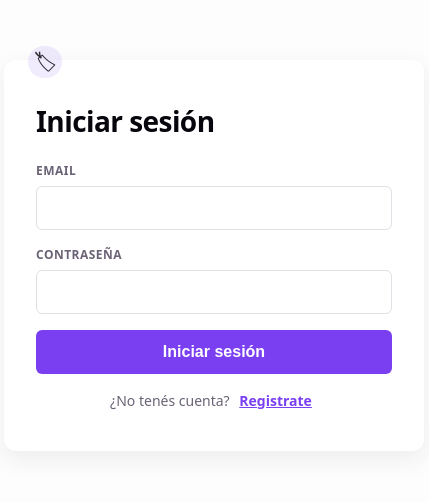
LoginPage › si login() falla, la página muestra el mensaje de error traducido
This screenshot has width=429, height=502.
Type "hernan@example.com" into the field labelled "Email" at (214, 208), box 36,186 -> 392,230
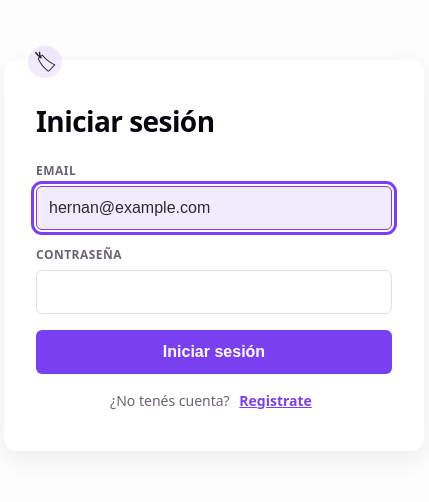
Type "clave123" into the password field labelled "Contraseña" at (214, 292), box 36,270 -> 392,314
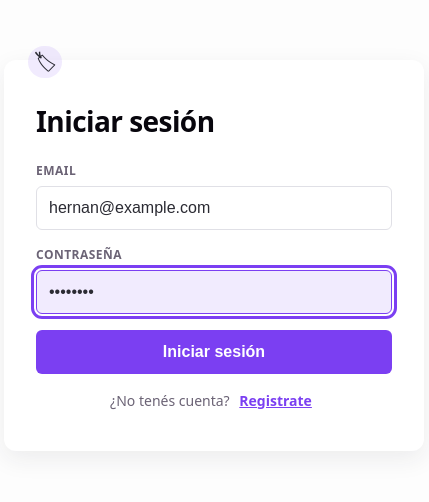
Click the button "Iniciar sesión" at (214, 352), box 36,330 -> 392,374
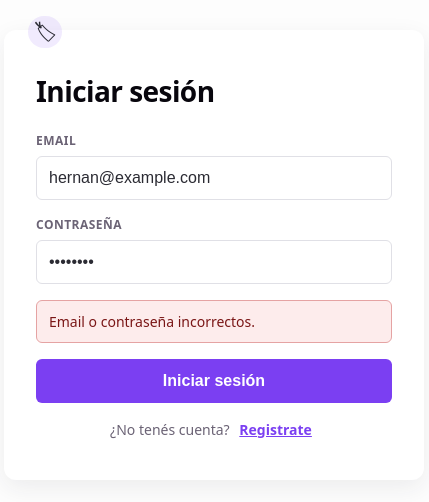
Expected: the message reads "Email o contraseña incorrectos.", 49,312 -> 255,331
